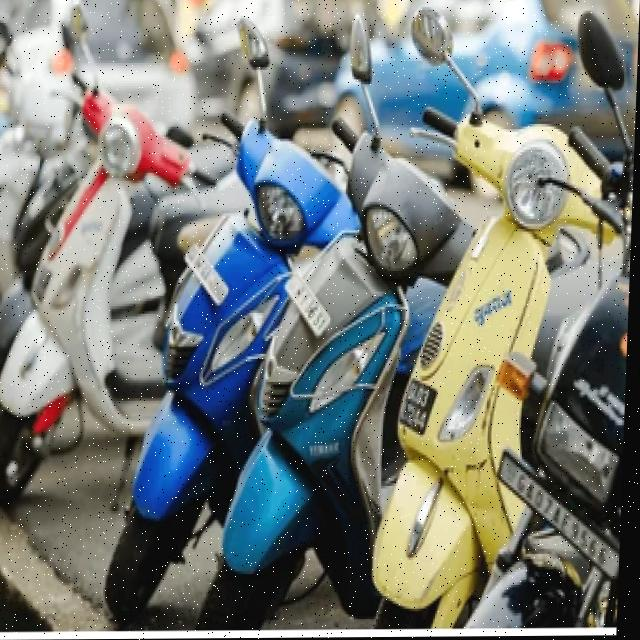plate: (490, 444, 627, 580), (283, 266, 337, 341), (183, 241, 233, 309)
